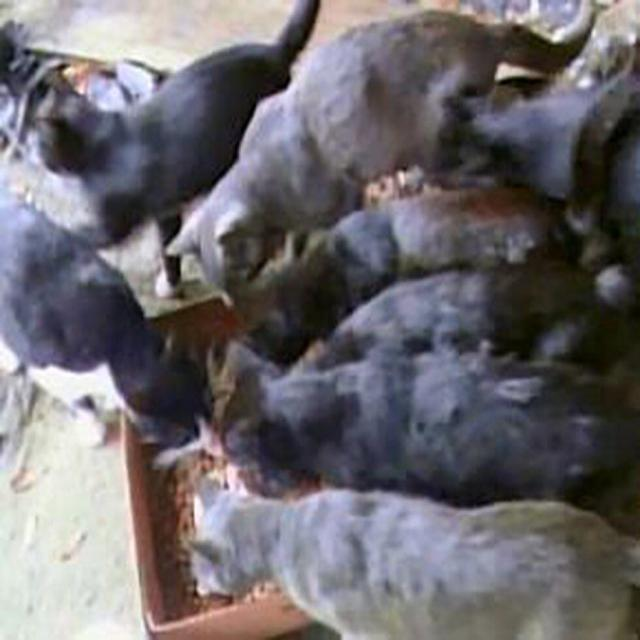cat: (170, 7, 591, 283), (216, 341, 640, 534), (36, 1, 319, 244), (192, 484, 640, 637), (232, 189, 611, 366), (0, 198, 220, 465), (291, 259, 640, 372)
